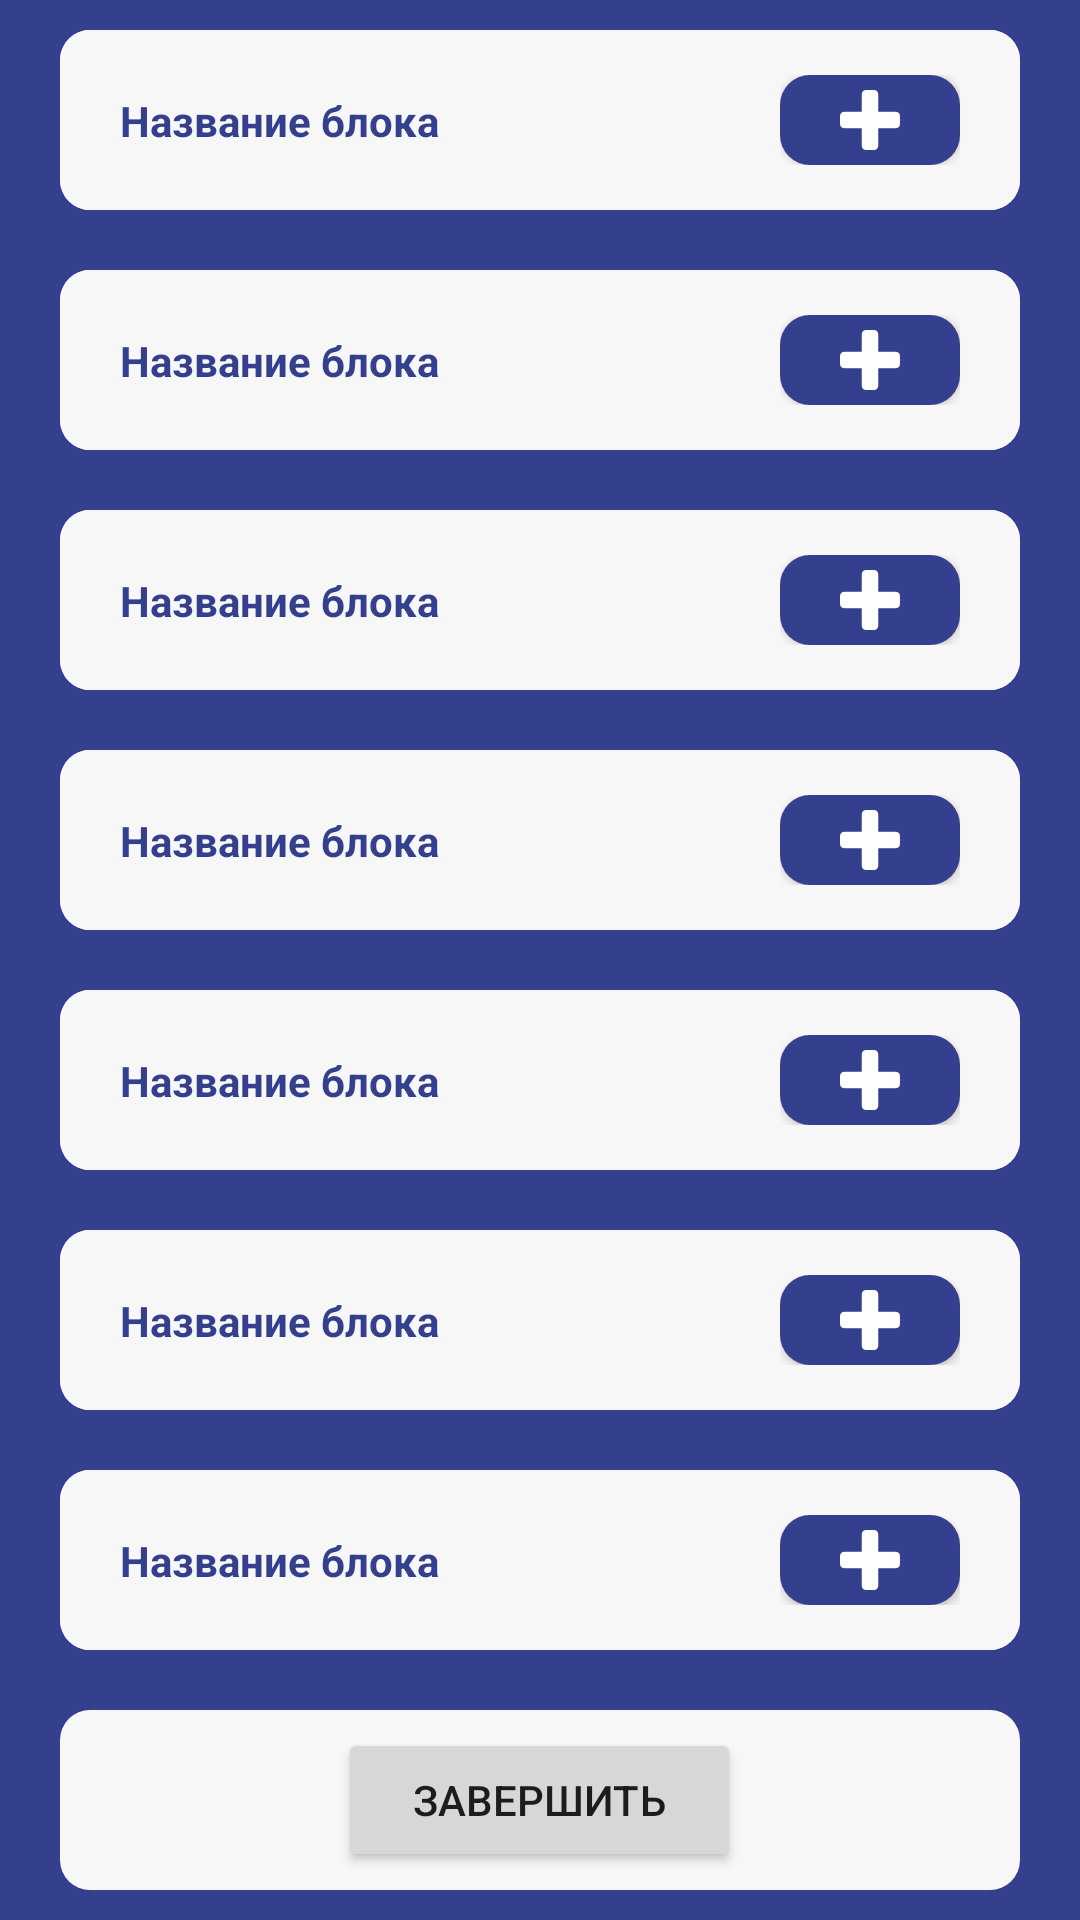

Where to tap for icons on this 1080 × 1920 app screen, as [x,y]:
plus: [870,120], [870,360], [870,600], [870,840], [870,1080], [870,1320], [870,1560]
